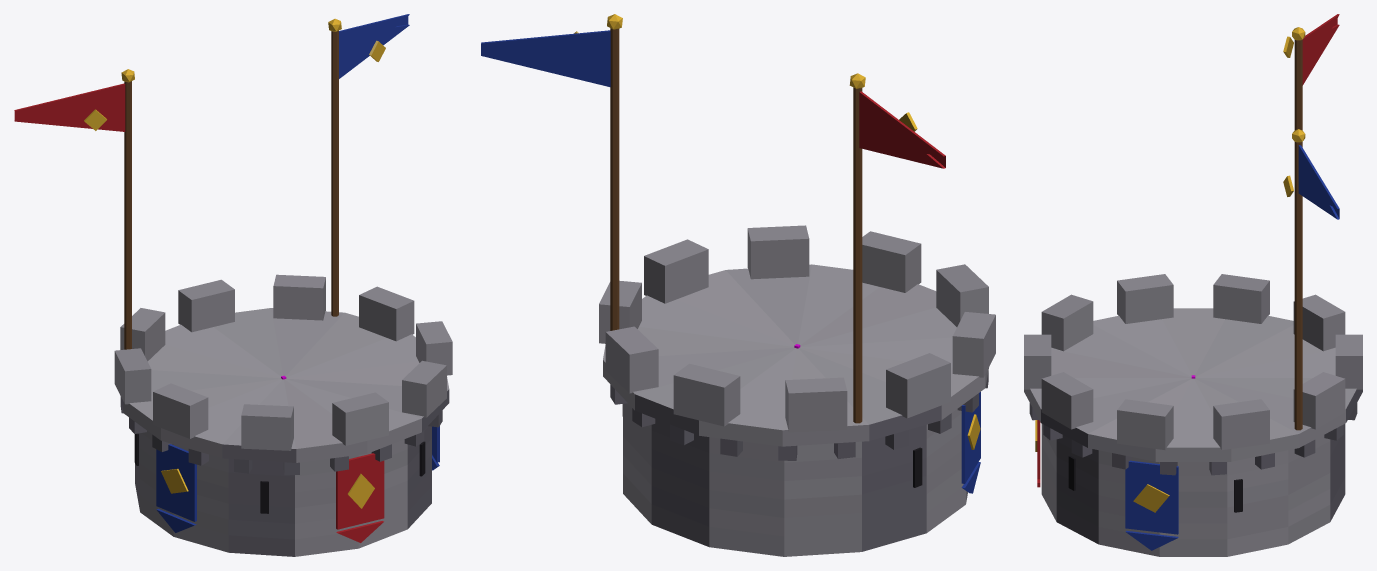
The model's file is Platform_KnightShiba.fbx.
The picture shows the model from 3 angles, left to right: view 1: azimuth 30°, elevation 25°; view 2: azimuth 150°, elevation 25°; view 3: azimuth 270°, elevation 25°; orthographic projection. The views are drawn at different scales.
Visible parts, largest first — view 1: Body; view 2: Body; view 3: Body.
Part boxes in pixels (x1,y1,x2,y2): Body: (14,14,452,556); Body: (481,14,995,556); Body: (1024,14,1362,556).
Size of the model in its own units: 11.86 by 11.8 by 8.7.
